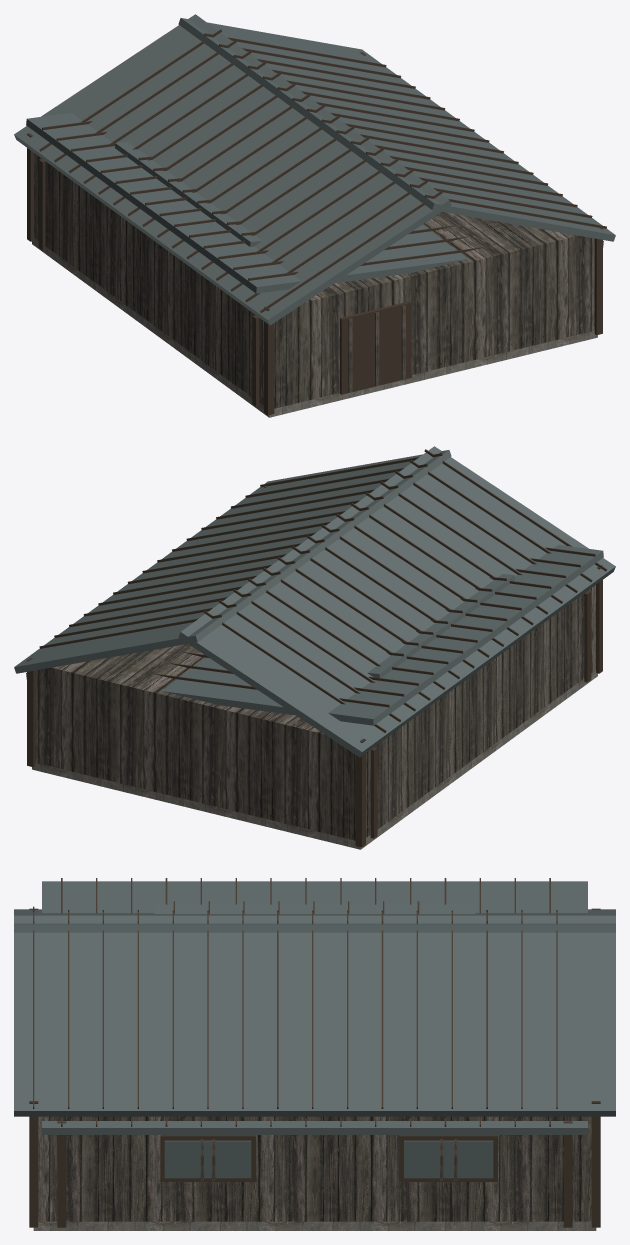
File: outbuildings.glb
3 views of the same model, one above another, from view 1: azimuth 30°, elevation 25°; view 2: azimuth 150°, elevation 25°; view 3: azimuth 270°, elevation 25° (orthographic). The views are drawn at different scales.
Parts seen in each view (by area): view 1: workshop_Weathered grey roof tile.006, workshop_Smoke-aged cedar.006, workshop_Dark structural timber.006, Weathered standing seam roof.004, lean-to_Smoke-aged cedar.006, lean-to_Dark structural timber.006, Low stone footing.007, Weathered standing seam roof.005, Low stone footing.006; view 2: workshop_Weathered grey roof tile.006, workshop_Smoke-aged cedar.006, workshop_Dark structural timber.006, lean-to_Smoke-aged cedar.006, Weathered standing seam roof.004, lean-to_Dark structural timber.006, Low stone footing.007, Weathered standing seam roof.005, Low stone footing.006; view 3: workshop_Weathered grey roof tile.006, lean-to_Smoke-aged cedar.006, Weathered standing seam roof.004, workshop_Smoke-aged cedar.006, workshop_Dark structural timber.006, lean-to_Outbuilding dark window.002, lean-to_Dark structural timber.006, Low stone footing.006, Weathered standing seam roof.005, workshop_Outbuilding dark window.002, Low stone footing.007.
Boxes of the visible parts, <box> form: workshop_Weathered grey roof tile.006: <box>14,14,615,325</box>; workshop_Smoke-aged cedar.006: <box>34,153,594,408</box>; workshop_Dark structural timber.006: <box>27,29,606,415</box>; Weathered standing seam roof.004: <box>26,113,603,293</box>; lean-to_Smoke-aged cedar.006: <box>45,165,252,396</box>; lean-to_Dark structural timber.006: <box>38,121,483,406</box>; Low stone footing.007: <box>32,238,597,417</box>; Weathered standing seam roof.005: <box>114,142,262,246</box>; Low stone footing.006: <box>44,247,257,408</box>; workshop_Weathered grey roof tile.006: <box>14,446,615,757</box>; workshop_Smoke-aged cedar.006: <box>35,585,595,840</box>; workshop_Dark structural timber.006: <box>27,449,606,847</box>; lean-to_Smoke-aged cedar.006: <box>377,597,584,826</box>; Weathered standing seam roof.004: <box>26,545,603,725</box>; lean-to_Dark structural timber.006: <box>154,547,595,838</box>; Low stone footing.007: <box>32,670,597,849</box>; Weathered standing seam roof.005: <box>367,574,515,677</box>; Low stone footing.006: <box>373,679,585,840</box>; workshop_Weathered grey roof tile.006: <box>14,909,615,1116</box>; lean-to_Smoke-aged cedar.006: <box>66,1135,563,1221</box>; Weathered standing seam roof.004: <box>42,881,587,1134</box>; workshop_Smoke-aged cedar.006: <box>38,1116,591,1221</box>; workshop_Dark structural timber.006: <box>29,906,600,1227</box>; lean-to_Outbuilding dark window.002: <box>176,1140,479,1178</box>; lean-to_Dark structural timber.006: <box>57,878,572,1227</box>; Low stone footing.006: <box>61,1221,567,1230</box>; Weathered standing seam roof.005: <box>154,904,475,913</box>; workshop_Outbuilding dark window.002: <box>164,1140,493,1178</box>; Low stone footing.007: <box>33,1221,596,1230</box>.
Size of the model in its own units: 8.47 by 4.3 by 10.7.
Materials: 6 (2 with a texture image).
